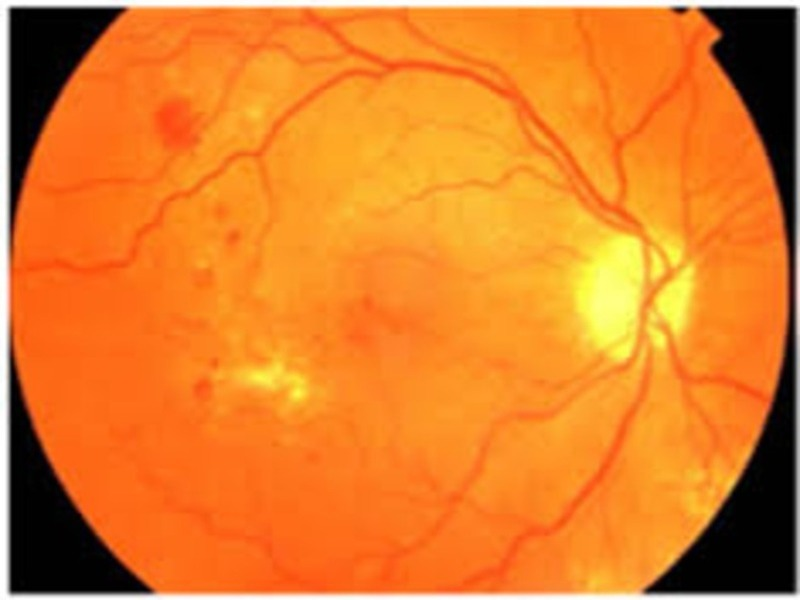Optic Cup: (575, 234, 690, 362)
Optic Disc: (554, 224, 610, 370)
